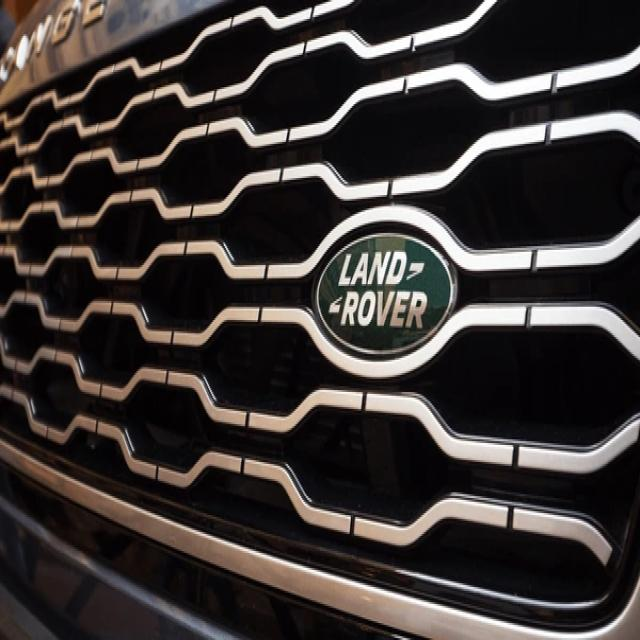landrover: (310, 234, 456, 356)
